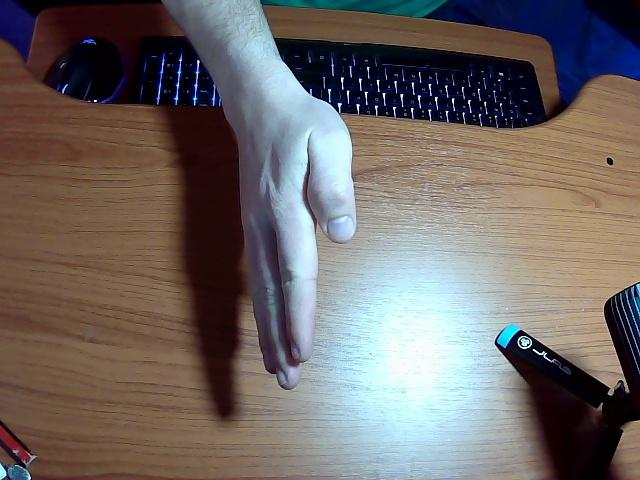paper: (166, 0, 356, 388)
